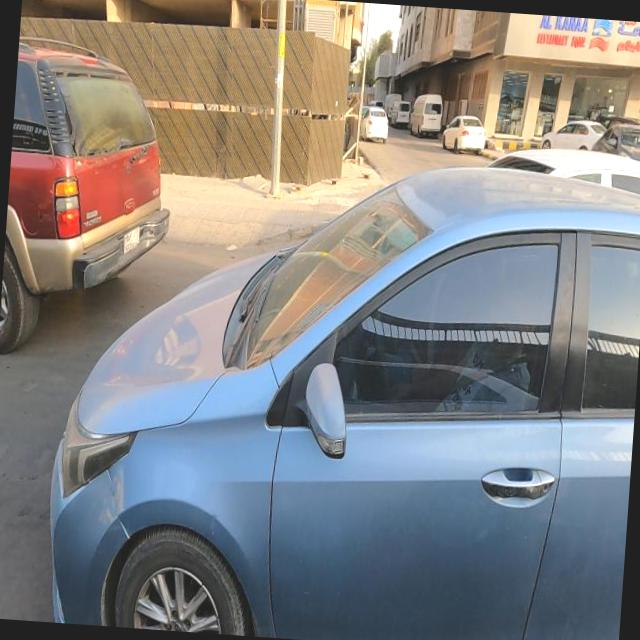debris: (209, 220, 252, 268)
